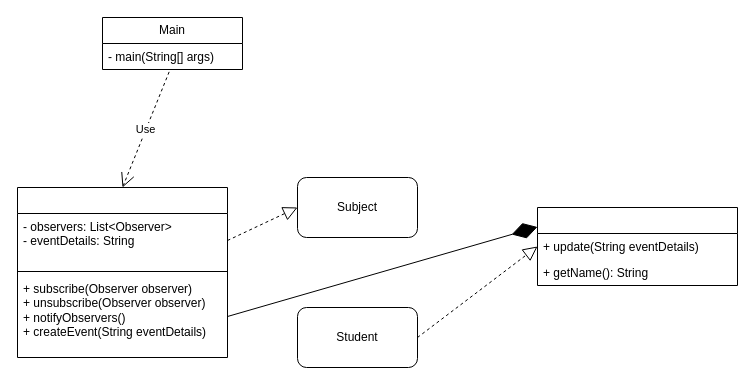
The diagram is 755 pixels wide and 385 high, and some of its shapes have lost their labels. The shapes that lost their labels are listed below. From the top down, each one's box as (x1, y1, x2, y2) in pixels, then its label:
(536, 206, 738, 286): Observer
(16, 186, 228, 358): TechEventSystem
